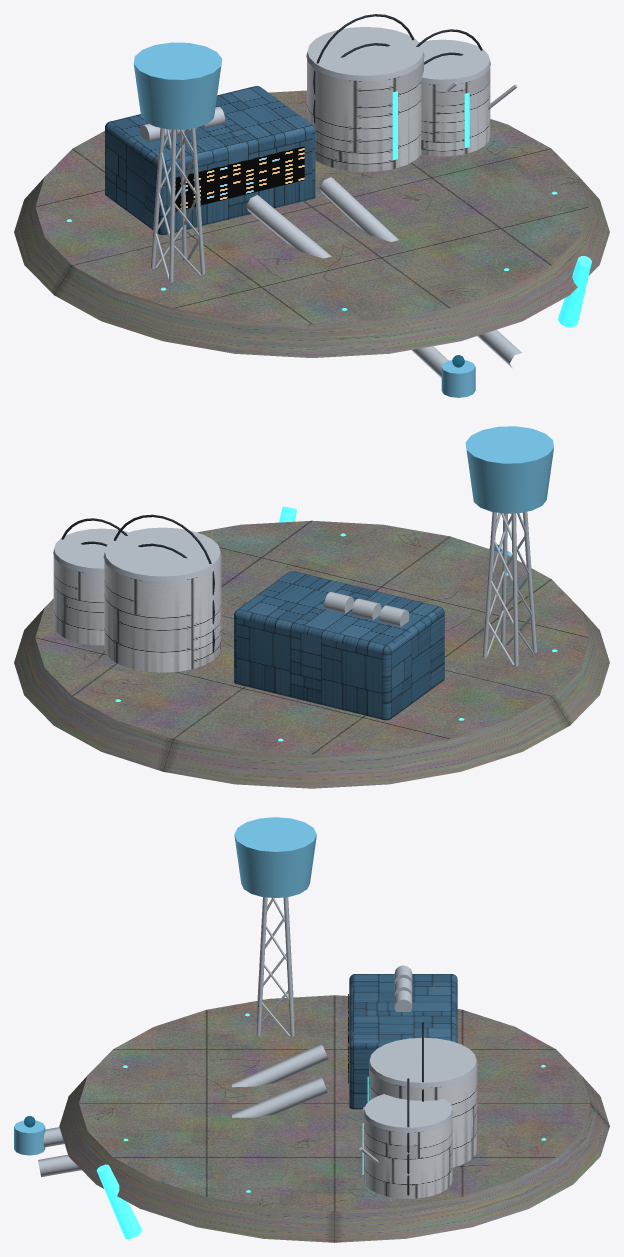
Rendered from desal-T2.glb.
The picture shows the model from 3 angles, top to bottom: view 1: azimuth 30°, elevation 25°; view 2: azimuth 150°, elevation 25°; view 3: azimuth 270°, elevation 25°; orthographic projection. The views are drawn at different scales.
Visible parts, largest first — view 1: object 1, object 11, object 16, object 62, object 17, object 23, object 12, object 24, object 64, object 63, object 67, object 65; view 2: object 1, object 11, object 16, object 62, object 17, object 23, object 24, object 13, object 14, object 15; view 3: object 1, object 11, object 23, object 62, object 17, object 16, object 24, object 64, object 63, object 67, object 65.
Part boxes in pixels (bbox=[...]): object 1: bbox=[14, 90, 609, 357]; object 11: bbox=[105, 86, 315, 234]; object 16: bbox=[307, 59, 423, 171]; object 62: bbox=[133, 42, 222, 129]; object 17: bbox=[306, 27, 424, 80]; object 23: bbox=[421, 67, 490, 156]; object 12: bbox=[175, 146, 304, 211]; object 24: bbox=[419, 39, 490, 84]; object 64: bbox=[319, 177, 521, 368]; object 63: bbox=[246, 195, 448, 377]; object 67: bbox=[558, 256, 591, 327]; object 65: bbox=[441, 360, 475, 397]; object 1: bbox=[14, 520, 609, 788]; object 11: bbox=[234, 571, 444, 720]; object 16: bbox=[104, 559, 221, 672]; object 62: bbox=[465, 426, 553, 513]; object 17: bbox=[103, 527, 221, 581]; object 23: bbox=[53, 555, 104, 645]; object 24: bbox=[53, 528, 128, 573]; object 13: bbox=[379, 605, 409, 626]; object 14: bbox=[352, 598, 381, 620]; object 15: bbox=[324, 592, 353, 613]; object 1: bbox=[59, 995, 609, 1242]; object 11: bbox=[349, 974, 457, 1109]; object 23: bbox=[364, 1115, 452, 1198]; object 62: bbox=[234, 817, 316, 897]; object 17: bbox=[368, 1037, 477, 1087]; object 16: bbox=[369, 1067, 477, 1167]; object 24: bbox=[363, 1094, 452, 1132]; object 64: bbox=[38, 1077, 327, 1177]; object 63: bbox=[42, 1044, 327, 1147]; object 67: bbox=[96, 1164, 142, 1238]; object 65: bbox=[14, 1120, 45, 1155].
Size of the model in its own units: 5.6 by 2.93 by 6.06.
10 materials, 5 textured.
